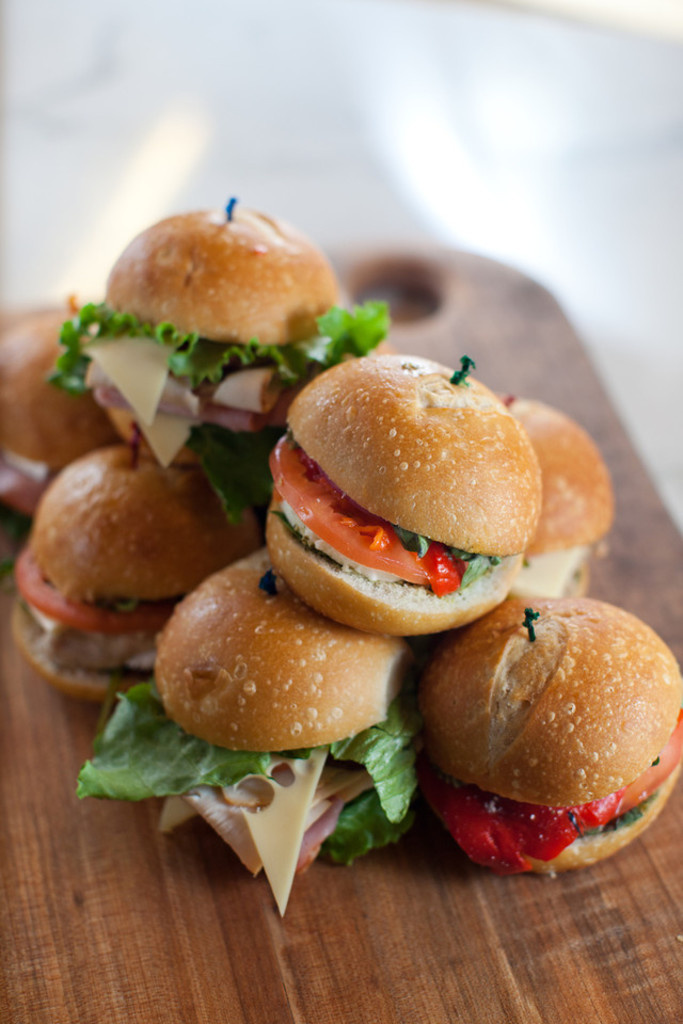Hamburger: (0, 211, 681, 918)
